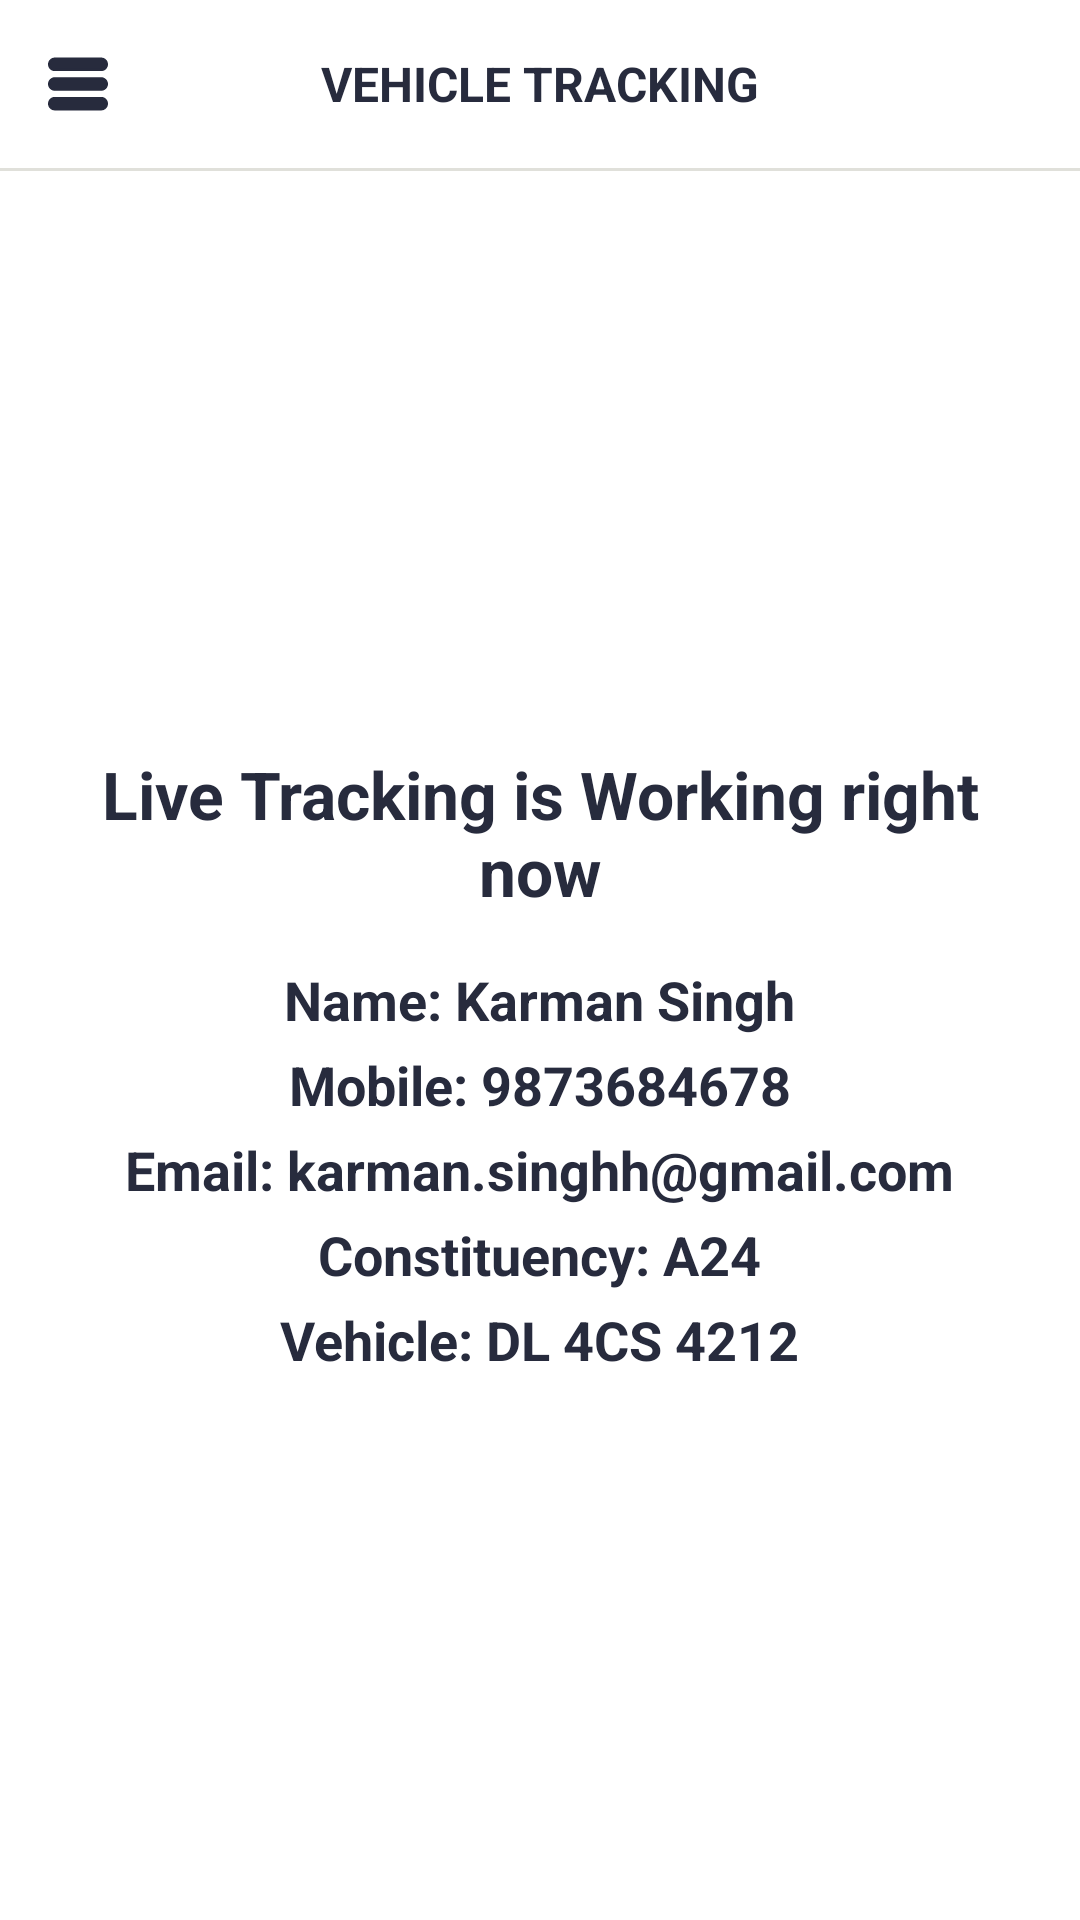

Named icons in this screenshot (1080x1920) and their centers, [x,y]:
navigation: [78,84]
